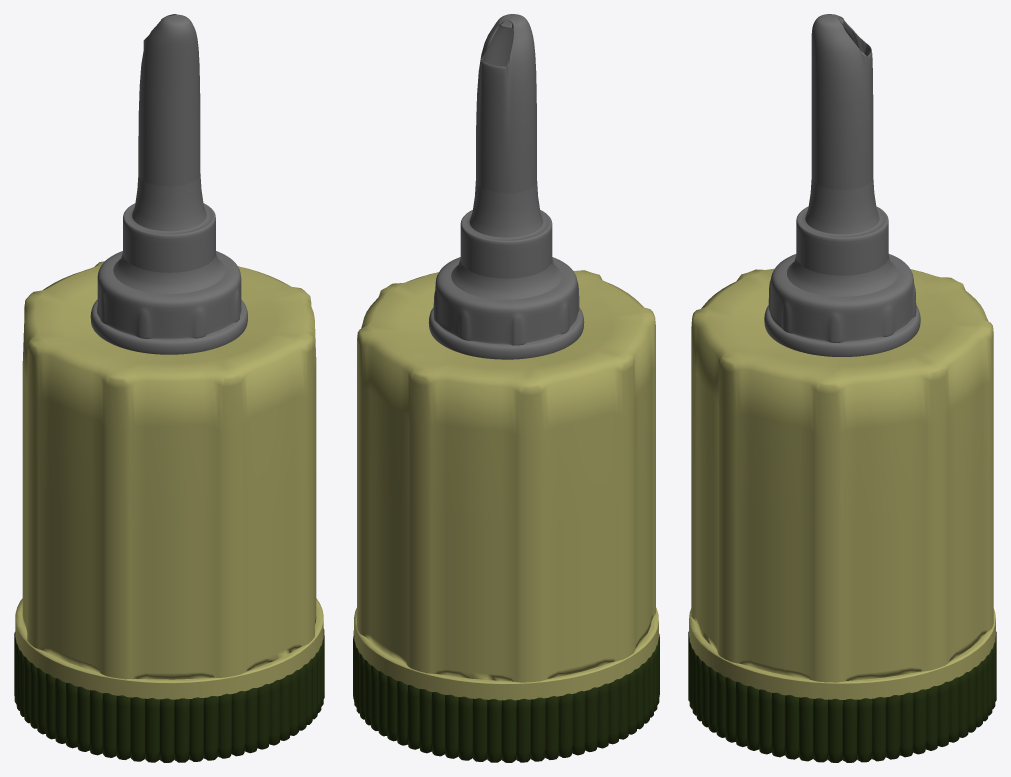
File: GasGrenadeProjectile.glb
3 views of the same model, side by side, from view 1: azimuth 30°, elevation 25°; view 2: azimuth 150°, elevation 25°; view 3: azimuth 270°, elevation 25° (orthographic).
Visible parts, largest first — view 1: Cylinder.001, Cylinder, Cylinder.003, Cylinder.002; view 2: Cylinder.001, Cylinder, Cylinder.003, Cylinder.002; view 3: Cylinder.001, Cylinder, Cylinder.003, Cylinder.002.
Boxes of the visible parts, <box> form: Cylinder.001: <box>22,261,316,679</box>; Cylinder: <box>90,14,247,354</box>; Cylinder.003: <box>14,629,324,762</box>; Cylinder.002: <box>15,598,323,699</box>; Cylinder.001: <box>357,270,655,682</box>; Cylinder: <box>428,14,584,359</box>; Cylinder.003: <box>353,631,659,762</box>; Cylinder.002: <box>354,607,658,700</box>; Cylinder.001: <box>691,268,993,682</box>; Cylinder: <box>764,14,920,356</box>; Cylinder.003: <box>688,631,996,762</box>; Cylinder.002: <box>689,608,995,699</box>.
Bounding box in the file's own units: 1.08 × 2.64 × 1.08.
